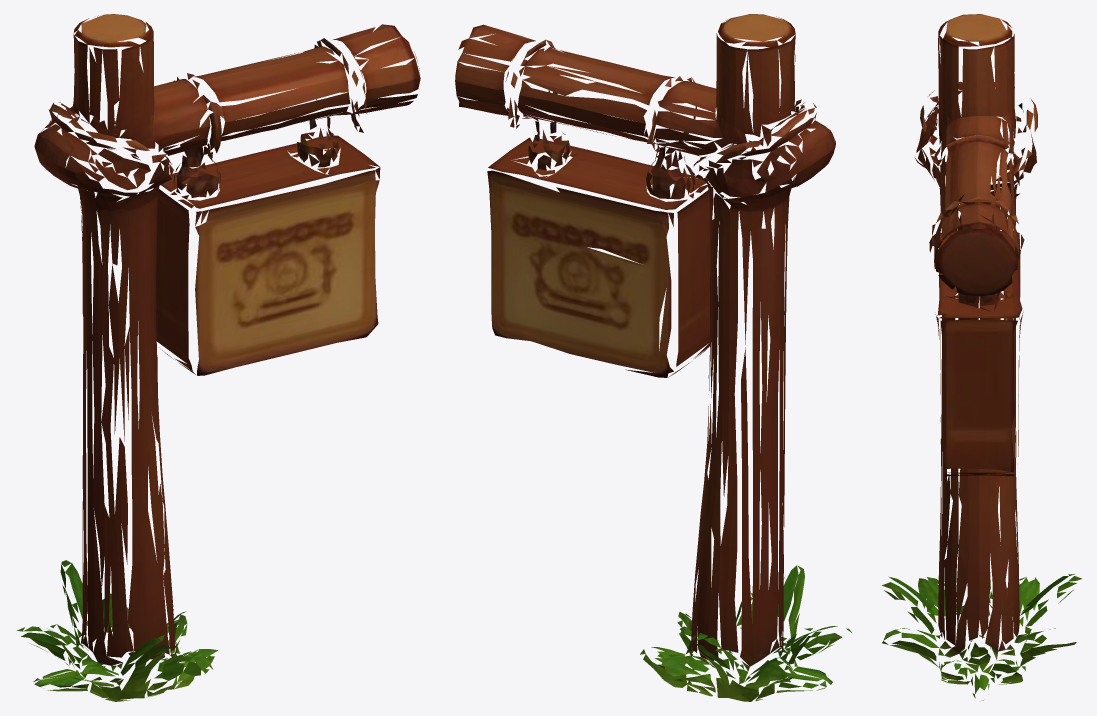
Rendered from signpost.glb.
The picture shows the model from 3 angles, left to right: view 1: azimuth 30°, elevation 25°; view 2: azimuth 150°, elevation 25°; view 3: azimuth 270°, elevation 25°; orthographic projection. The views are drawn at different scales.
Parts seen in each view (by area): view 1: world.001; view 2: world.001; view 3: world.001.
Boxes of the visible parts, bbox=[...] form: world.001: bbox=[17, 14, 420, 701]; world.001: bbox=[455, 14, 851, 701]; world.001: bbox=[882, 14, 1081, 700].
Bounding box in the file's own units: 0.5778 × 0.9991 × 0.2889.
Materials: 1 (1 with a texture image).
